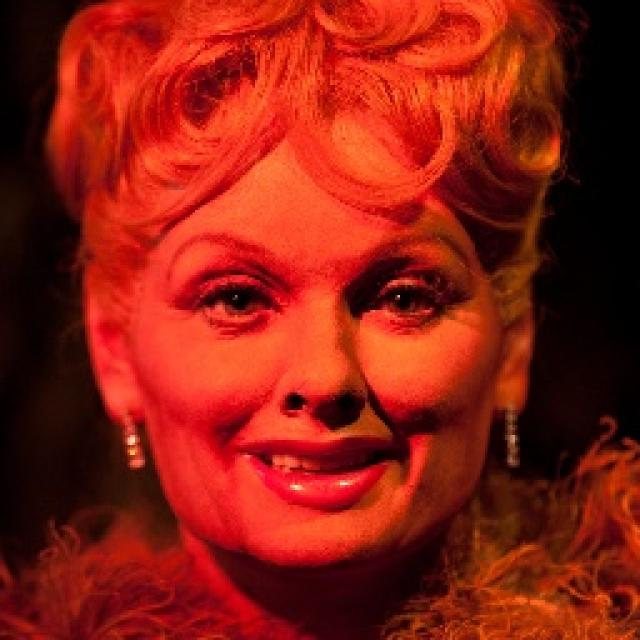earlobe: (107, 387, 145, 427), (489, 390, 530, 422)
eye: (199, 276, 277, 331), (368, 276, 442, 325)
nose: (281, 402, 354, 436)
wholeear: (81, 246, 146, 430), (492, 278, 538, 418)
